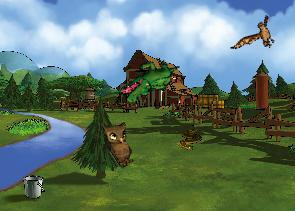crocodile: (116, 46, 181, 115)
eagle: (230, 7, 284, 65)
owl: (97, 115, 145, 169)
